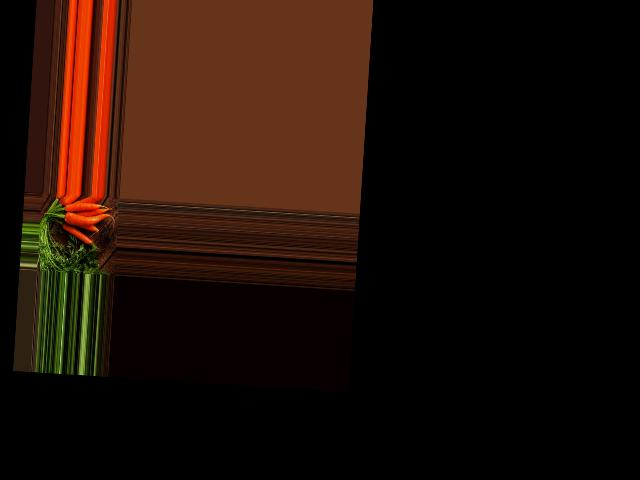carrot: (57, 193, 78, 210)
